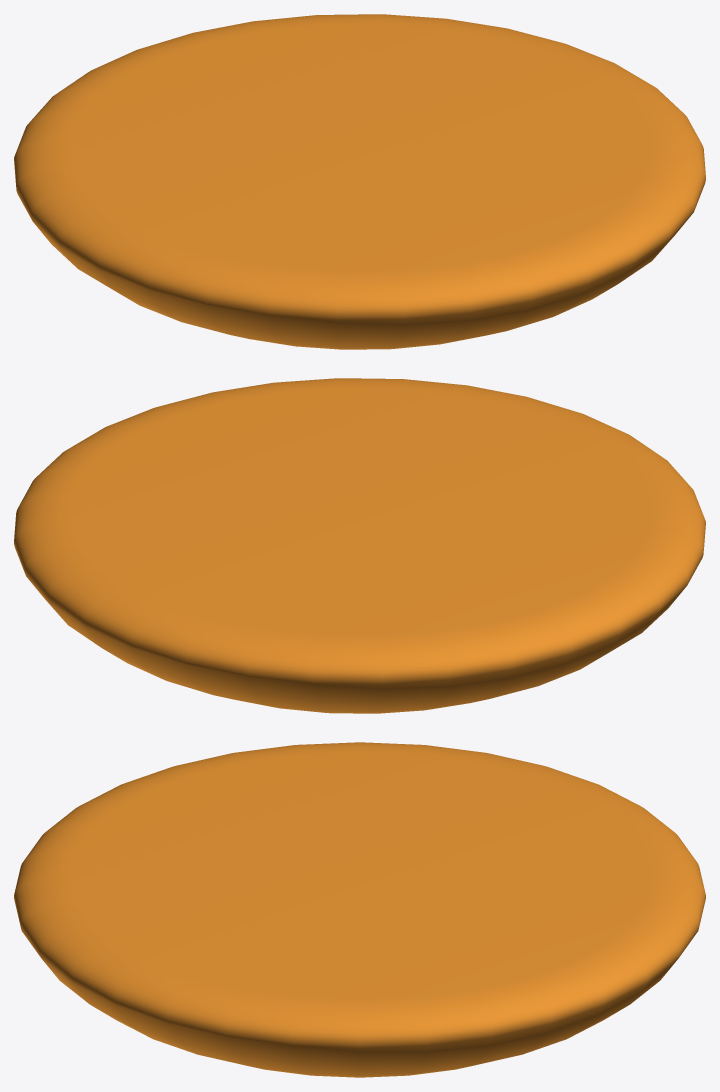
File: PANE_bottom_no_usare.fbx
3 renders of one model, top to bottom at view 1: azimuth 30°, elevation 25°; view 2: azimuth 150°, elevation 25°; view 3: azimuth 270°, elevation 25°, orthographic.
Parts seen in each view (by area): view 1: Sphere; view 2: Sphere; view 3: Sphere.
Boxes of the visible parts, x1,y1,x2,y2 form: Sphere: (14,14,705,349); Sphere: (14,378,705,713); Sphere: (14,742,705,1077).
Bounding box in the file's own units: 197 × 42.07 × 197.
